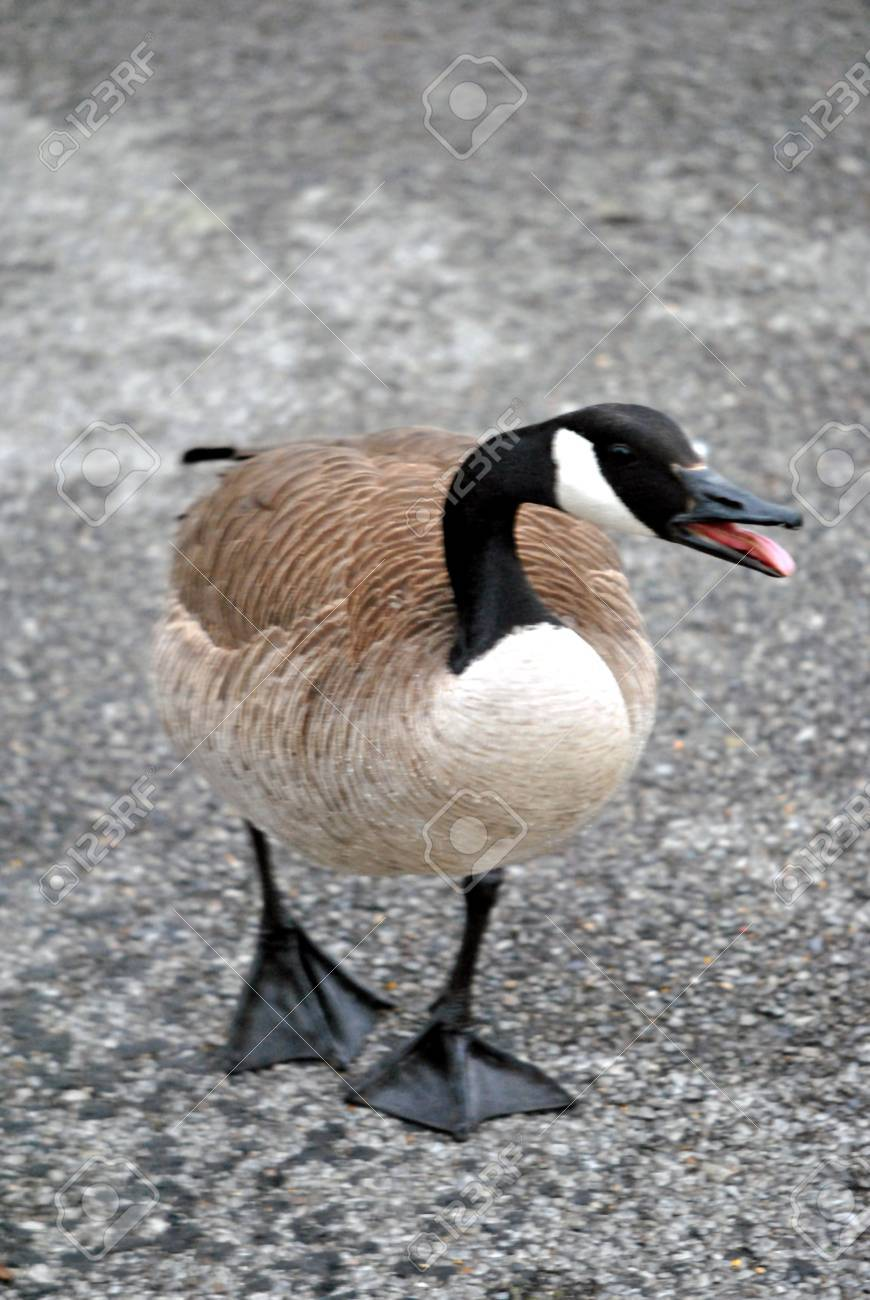goose: (142, 394, 809, 1139)
